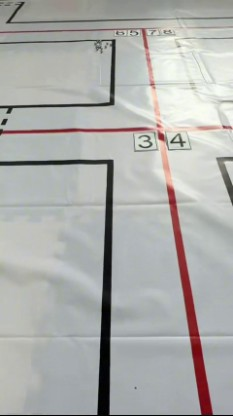ironball: (92, 40, 102, 51), (95, 42, 103, 52), (99, 45, 106, 51), (107, 40, 113, 47), (103, 41, 108, 46)
